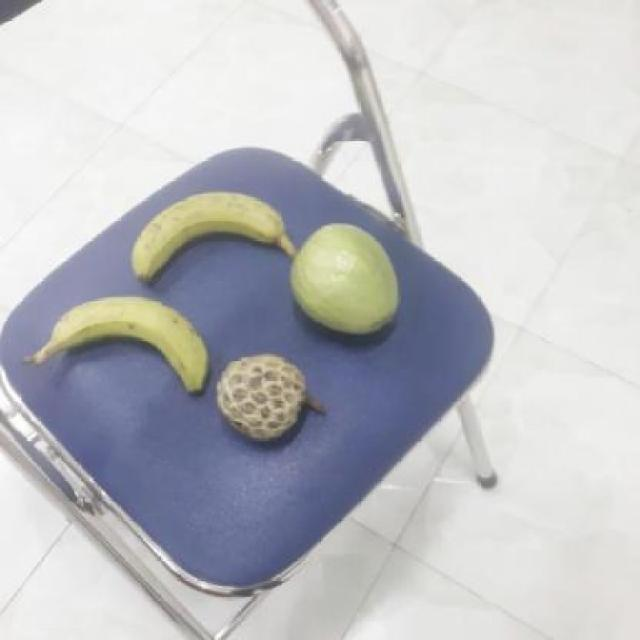banana: (52, 296, 219, 399), (132, 194, 297, 294)
sugar apple: (216, 352, 322, 440)
